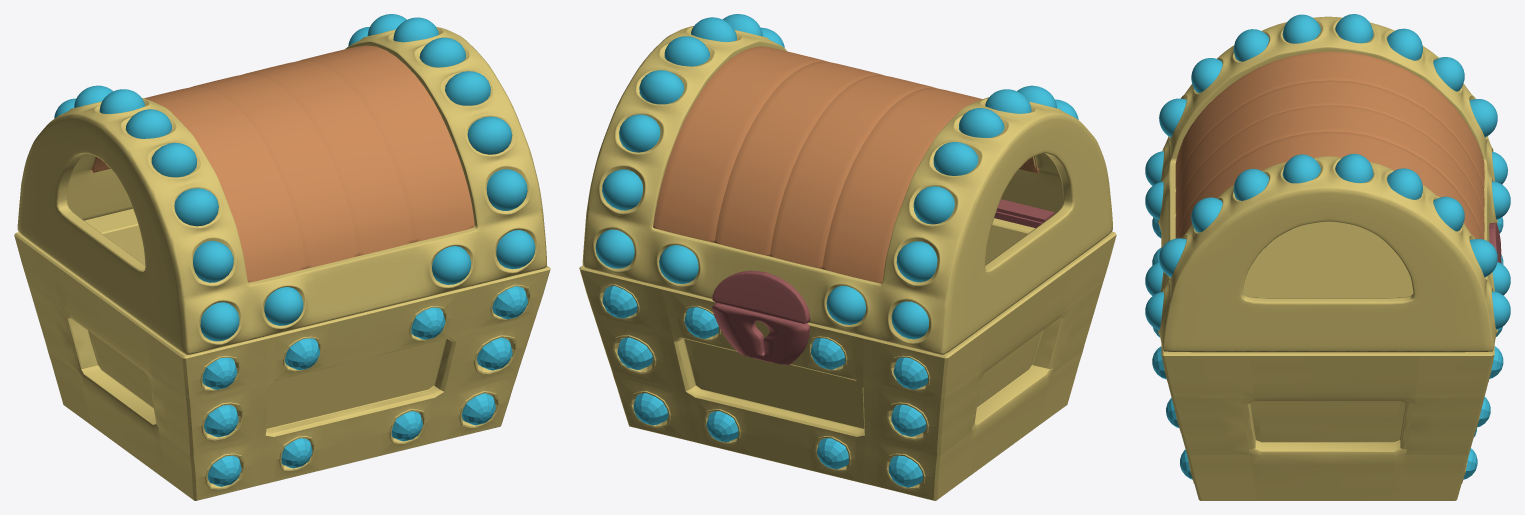
Rendered from treasurebox.fbx.
3 views of the same model, side by side, from view 1: azimuth 30°, elevation 25°; view 2: azimuth 150°, elevation 25°; view 3: azimuth 270°, elevation 25° (orthographic). The views are drawn at different scales.
Visible parts, largest first — view 1: polySurface224, polySurface213; view 2: polySurface224, polySurface213, group12_polySurface216; view 3: polySurface224, polySurface213.
Part boxes in pixels (bbox=[...]): polySurface224: bbox=[17, 14, 546, 354]; polySurface213: bbox=[14, 208, 550, 500]; polySurface224: bbox=[582, 14, 1112, 354]; polySurface213: bbox=[579, 218, 1116, 500]; group12_polySurface216: bbox=[994, 199, 1054, 228]; polySurface224: bbox=[1145, 14, 1510, 352]; polySurface213: bbox=[1152, 217, 1503, 500].
Bounding box in the file's own units: 2.27 × 2.07 × 2.
